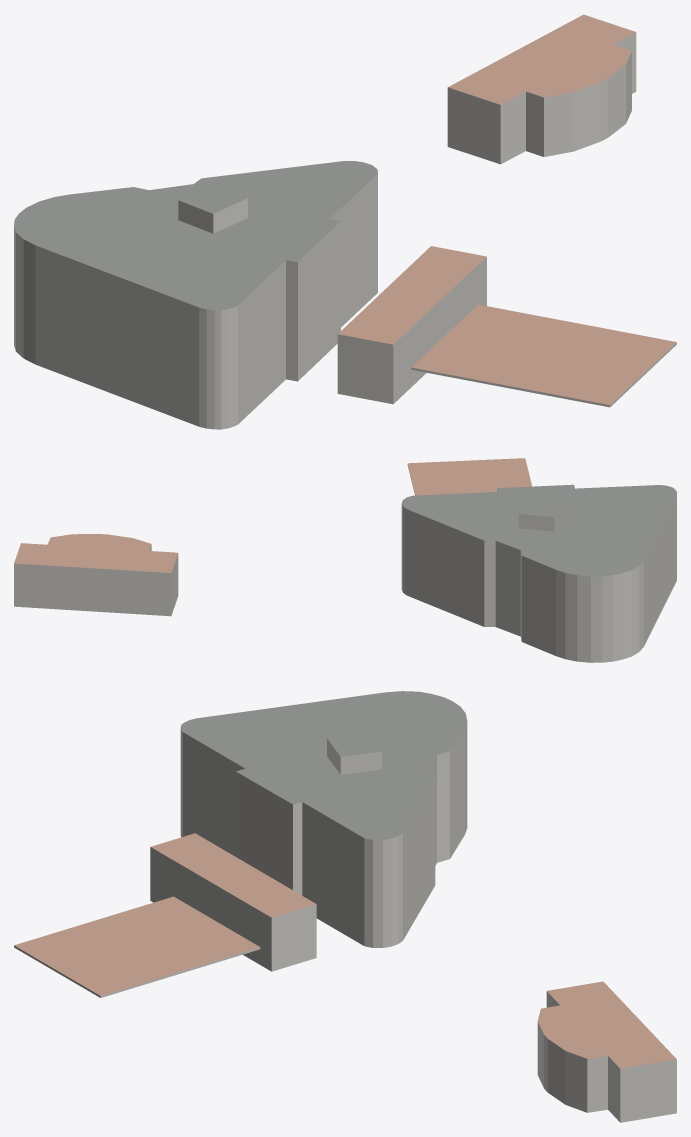
File: gridID_119.dae
3 views of the same model, one above another, from view 1: azimuth 30°, elevation 25°; view 2: azimuth 150°, elevation 25°; view 3: azimuth 270°, elevation 25° (orthographic). The views are drawn at different scales.
Visible parts, largest first — view 1: model_gridID_119_w169937057, model_gridID_119_r2261942_002, model_gridID_119_r2261942_001, model_gridID_119_w387511399, model_gridID_119_w387511399_001; view 2: model_gridID_119_w169937057, model_gridID_119_w387511399_001, model_gridID_119_r2261942_002, model_gridID_119_w387511399; view 3: model_gridID_119_w169937057, model_gridID_119_r2261942_002, model_gridID_119_r2261942_001, model_gridID_119_w387511399_001, model_gridID_119_w387511399.
Boxes of the visible parts, <box> form: model_gridID_119_w169937057: <box>14,161,377,429</box>; model_gridID_119_r2261942_002: <box>411,304,676,407</box>; model_gridID_119_r2261942_001: <box>337,246,486,404</box>; model_gridID_119_w387511399: <box>505,37,631,156</box>; model_gridID_119_w387511399_001: <box>447,14,636,164</box>; model_gridID_119_w169937057: <box>401,484,676,662</box>; model_gridID_119_w387511399_001: <box>14,543,178,616</box>; model_gridID_119_r2261942_002: <box>407,458,532,495</box>; model_gridID_119_w387511399: <box>45,534,151,558</box>; model_gridID_119_w169937057: <box>180,691,467,947</box>; model_gridID_119_r2261942_002: <box>14,896,260,997</box>; model_gridID_119_r2261942_001: <box>150,833,316,971</box>; model_gridID_119_w387511399_001: <box>546,981,676,1122</box>; model_gridID_119_w387511399: <box>537,1001,629,1112</box>.
Bounding box in the file's own units: 96.48 × 83.48 × 17.5.
